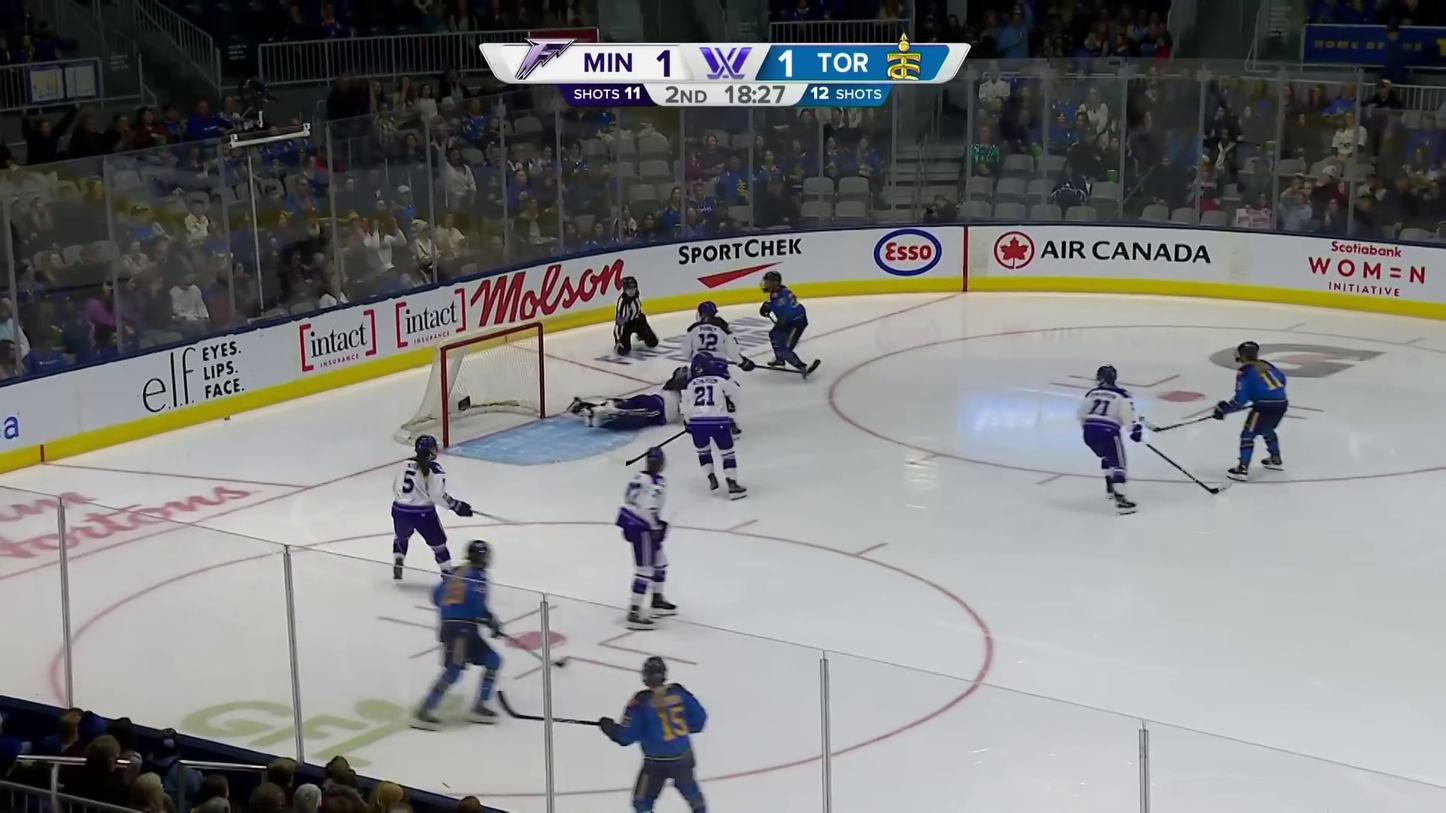goaltender: (568, 363, 689, 431)
player: (408, 536, 505, 734), (599, 654, 710, 812), (390, 434, 475, 584), (615, 445, 679, 629), (1075, 363, 1150, 517), (1214, 341, 1292, 483), (683, 351, 751, 501), (758, 271, 810, 383), (686, 303, 754, 381)
referee: (612, 276, 658, 351)
